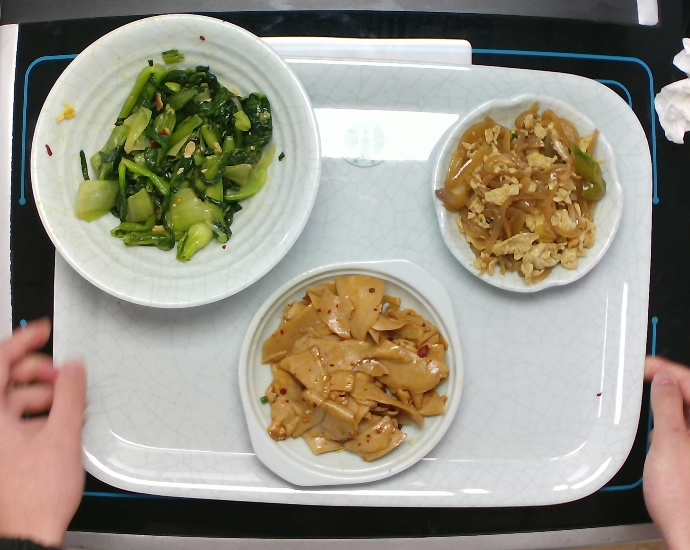JYsf-Ao_Yuan_Wan: (428, 84, 631, 295)
JYsf-Shuang_Er_Pan: (231, 255, 471, 492)
JYsf-Xiao_Tang_Wan: (26, 9, 328, 310)
